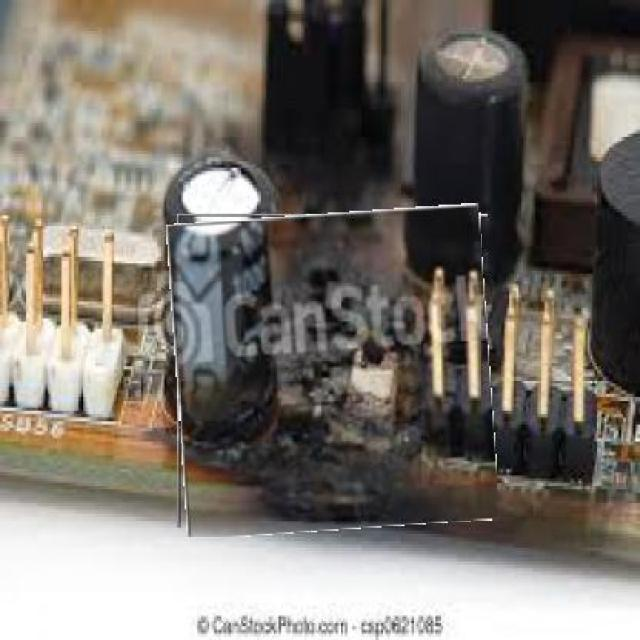Burn: (172, 208, 494, 534)
